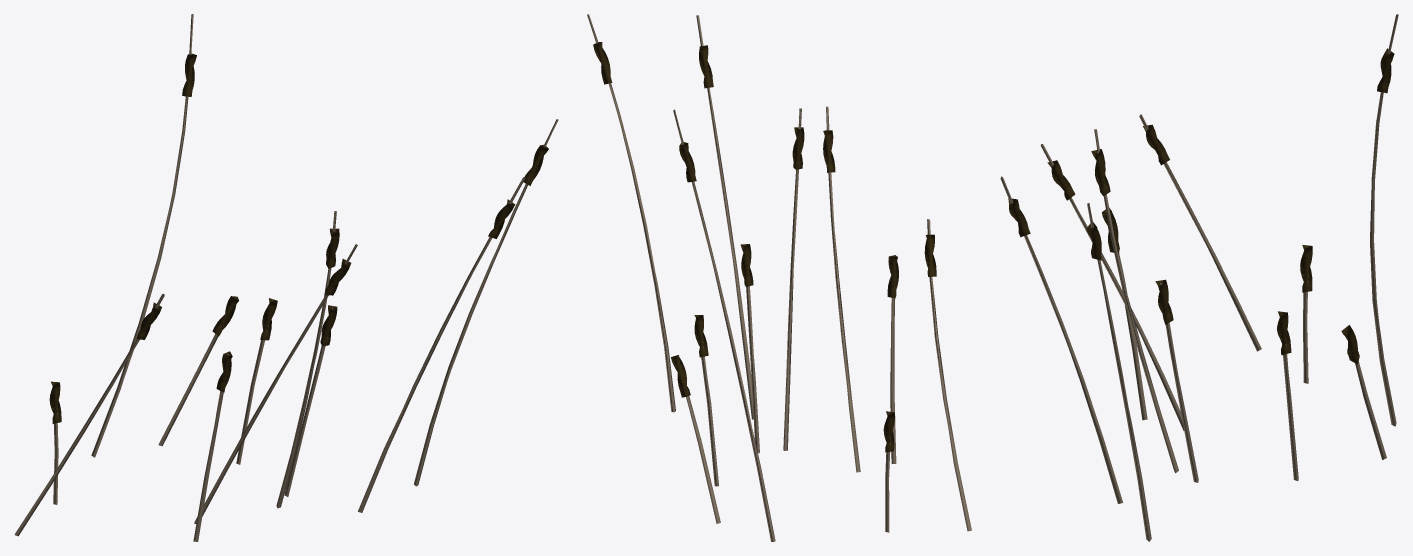
The model's file is cattail3.fbx.
3 views of the same model, side by side, from view 1: azimuth 30°, elevation 25°; view 2: azimuth 150°, elevation 25°; view 3: azimuth 270°, elevation 25° (orthographic). The views are drawn at different scales.
Visible parts, largest first — view 1: cattail3Main, cattail3Flower; view 2: cattail3Main, cattail3Flower; view 3: cattail3Main, cattail3Flower.
Boxes of the visible parts, <box> form: cattail3Main: <box>14,14,558,541</box>; cattail3Flower: <box>49,53,548,423</box>; cattail3Main: <box>587,14,971,541</box>; cattail3Flower: <box>593,42,936,452</box>; cattail3Main: <box>1000,14,1398,541</box>; cattail3Flower: <box>1008,48,1394,364</box>.
Size of the model in its own units: 4.68 by 3.99 by 3.09.
